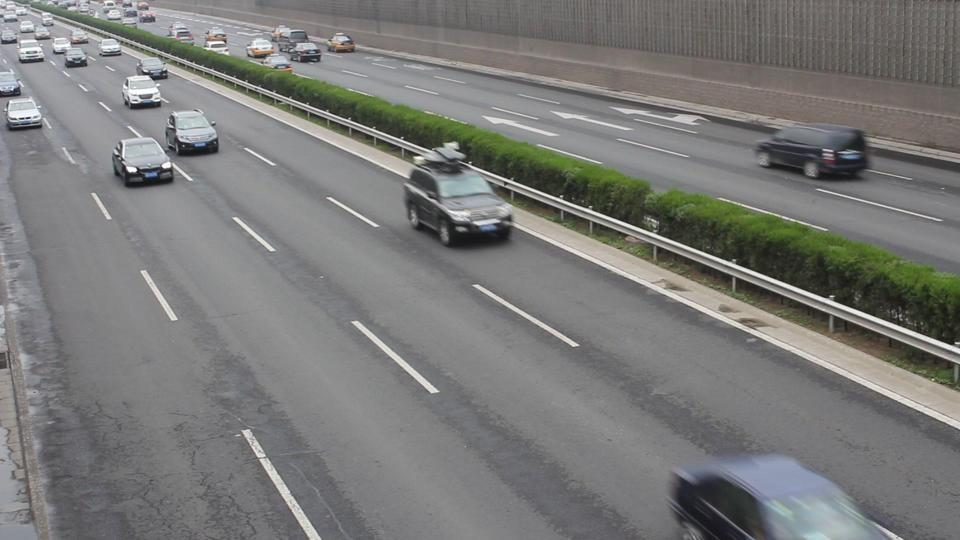car: (664, 451, 898, 537), (401, 155, 515, 246), (753, 123, 869, 179), (110, 136, 175, 187), (164, 109, 220, 156), (121, 75, 163, 110), (4, 97, 44, 130), (136, 58, 169, 81), (0, 67, 23, 96), (17, 41, 45, 63), (328, 31, 356, 52)
